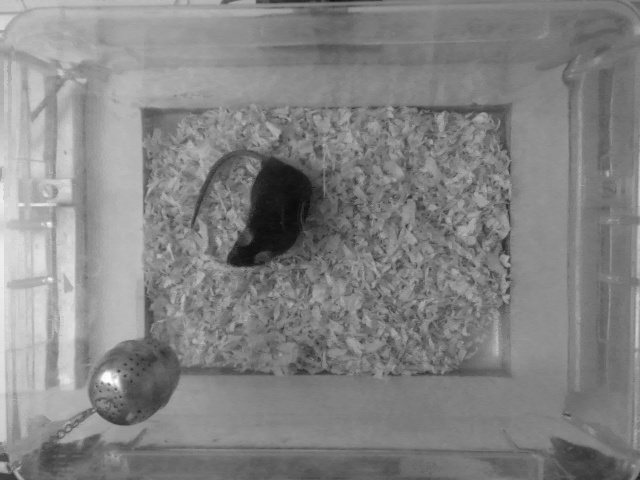mice: (188, 148, 322, 267)
